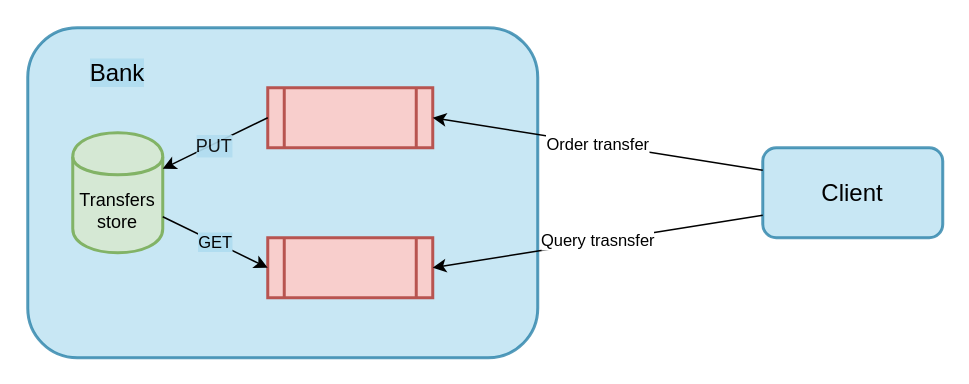
Image size: 969x384. Some labels were removed from this diagram. Each missing label, with the box of its shape:
Transfers query service: (266, 236, 434, 298)
Transfers write service: (266, 86, 434, 148)
